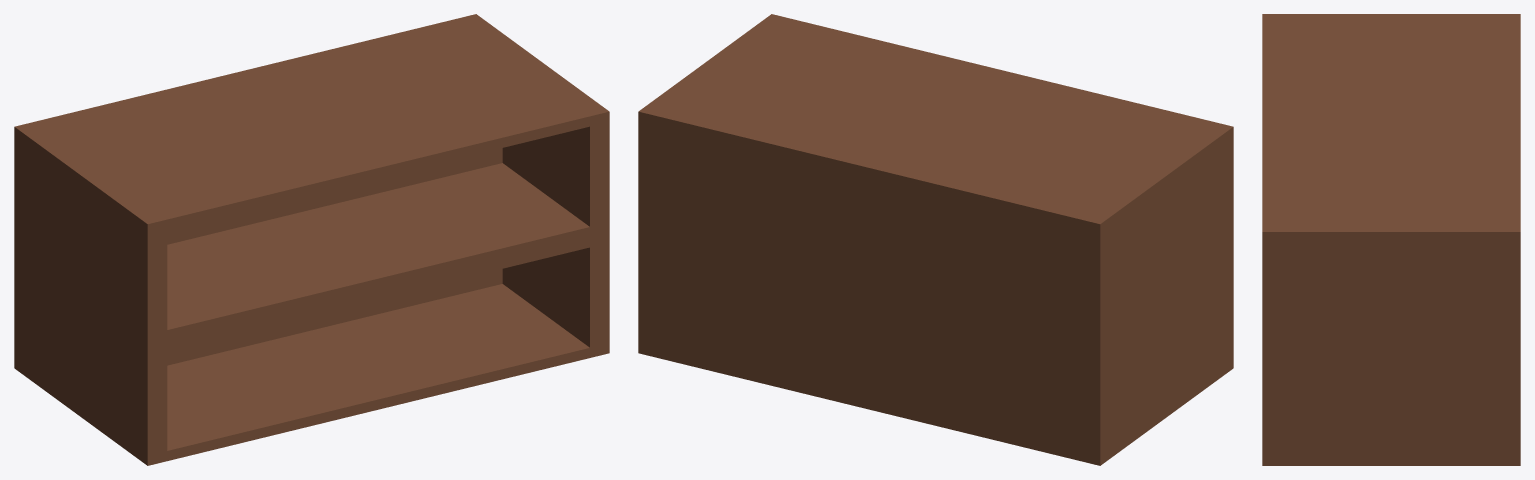
The model's file is Cabinet_2_Holes.fbx.
3 renders of one model, left to right at view 1: azimuth 30°, elevation 25°; view 2: azimuth 150°, elevation 25°; view 3: azimuth 270°, elevation 25°, orthographic. The views are drawn at different scales.
Parts seen in each view (by area): view 1: CABINET 2 HOLES; view 2: CABINET 2 HOLES; view 3: CABINET 2 HOLES.
Boxes of the visible parts, box(x1,y1,x2,y2) form: CABINET 2 HOLES: box(14, 14, 609, 465); CABINET 2 HOLES: box(638, 14, 1233, 465); CABINET 2 HOLES: box(1262, 14, 1520, 465).
Bounding box in the file's own units: 100 × 50 × 50.
